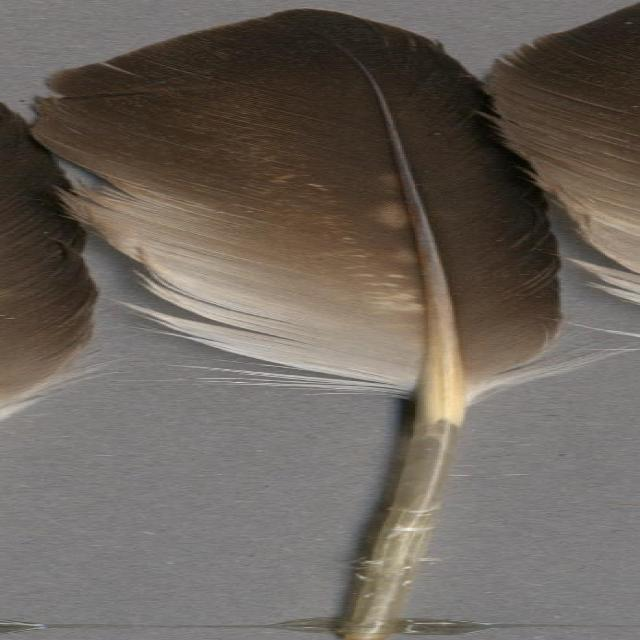feather: (24, 6, 584, 640)
